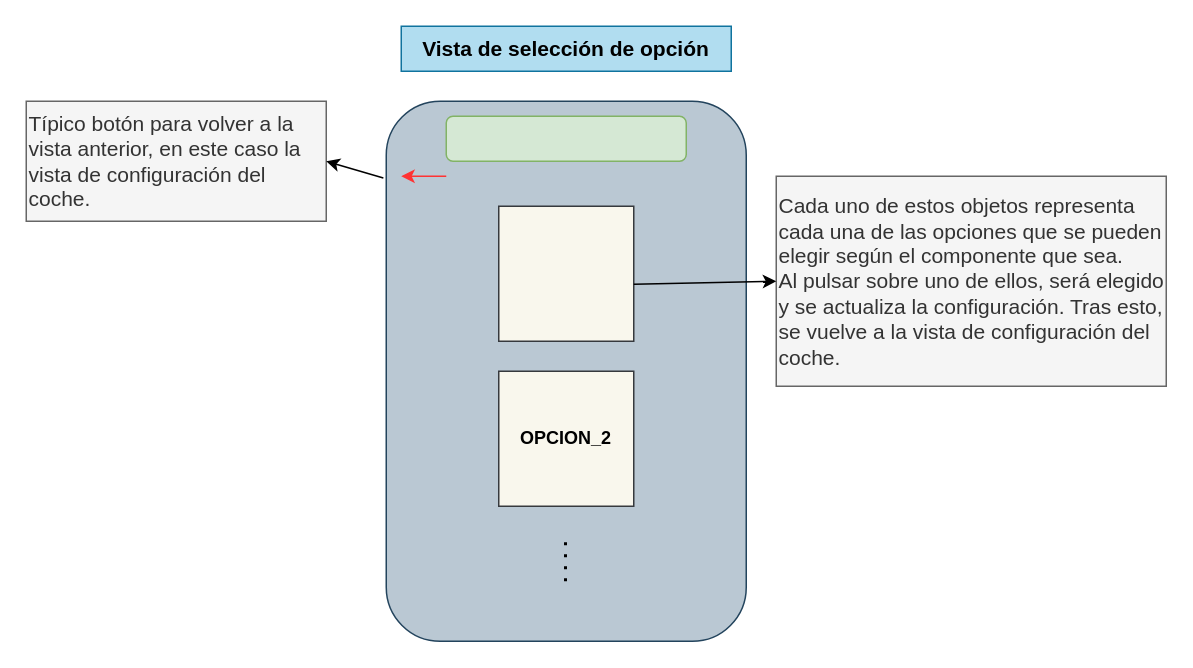
The diagram is 1193 pixels wide and 668 high, and some of its shapes have lost their labels. The shapes that lost their labels are listed below. From the top down, each one's box as (x1, y1, x2, y2) in pixels, then its label:
(445, 115, 686, 161): Nombre componente
(497, 205, 634, 341): OPCION_1
